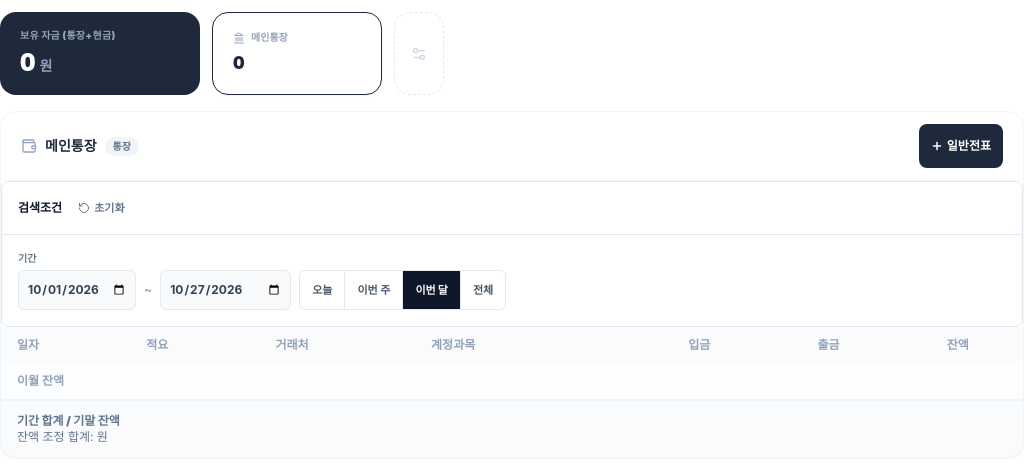
Test case: 자금 조회 초기화는 당월만 복원하며 일반전표 행동은 패널 밖에서 유지한다
Type "2025-01-01" into the date field named "자금 조회 시작일" at point(77, 290), box [18, 270, 136, 310]
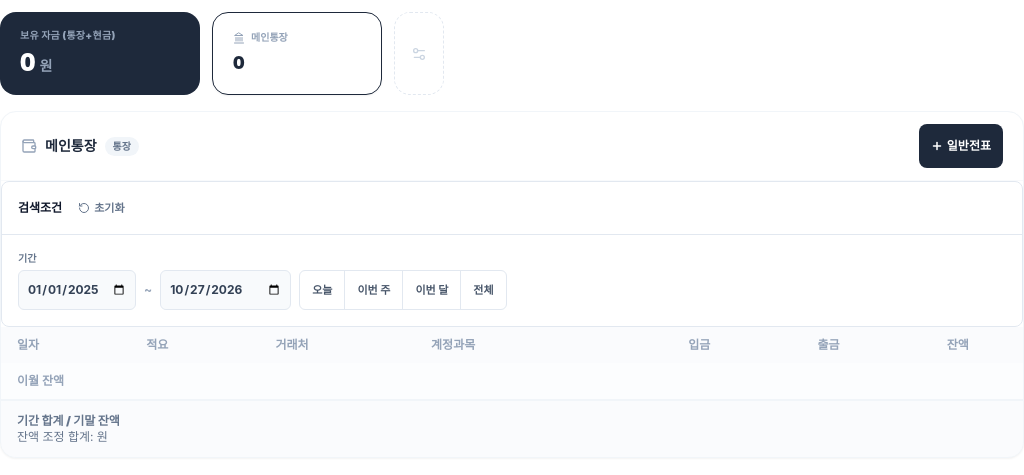
Click the button "초기화" at point(101, 208), box [70, 192, 133, 224]
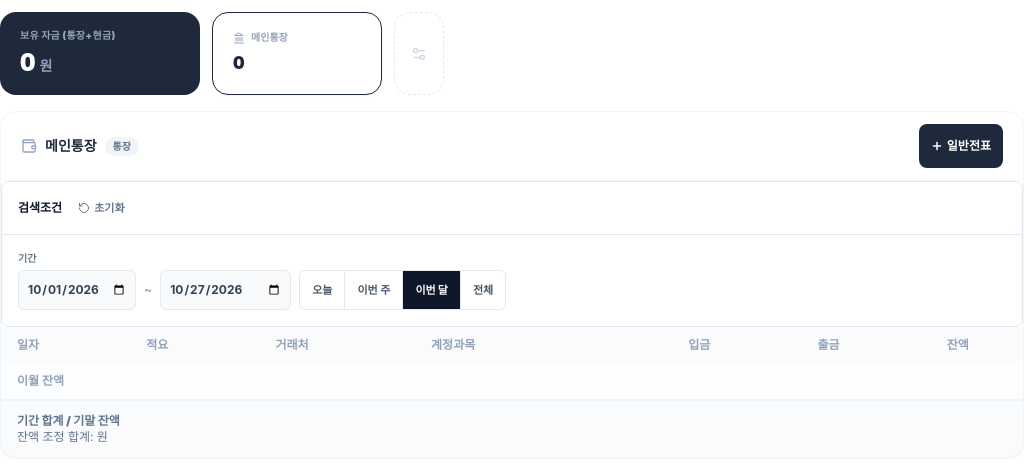
Result: the date field named "자금 조회 시작일" holds "2026-10-01" at [18, 270, 136, 310]
